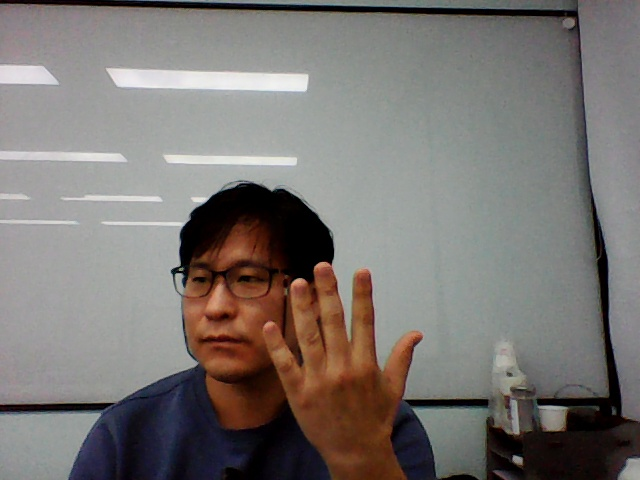five: (254, 256, 427, 455)
